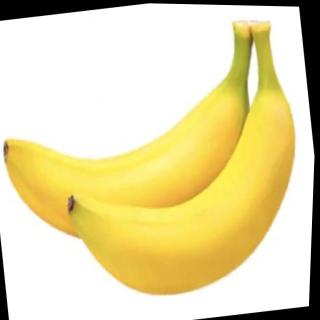banana: (52, 81, 318, 311), (0, 76, 270, 260)
